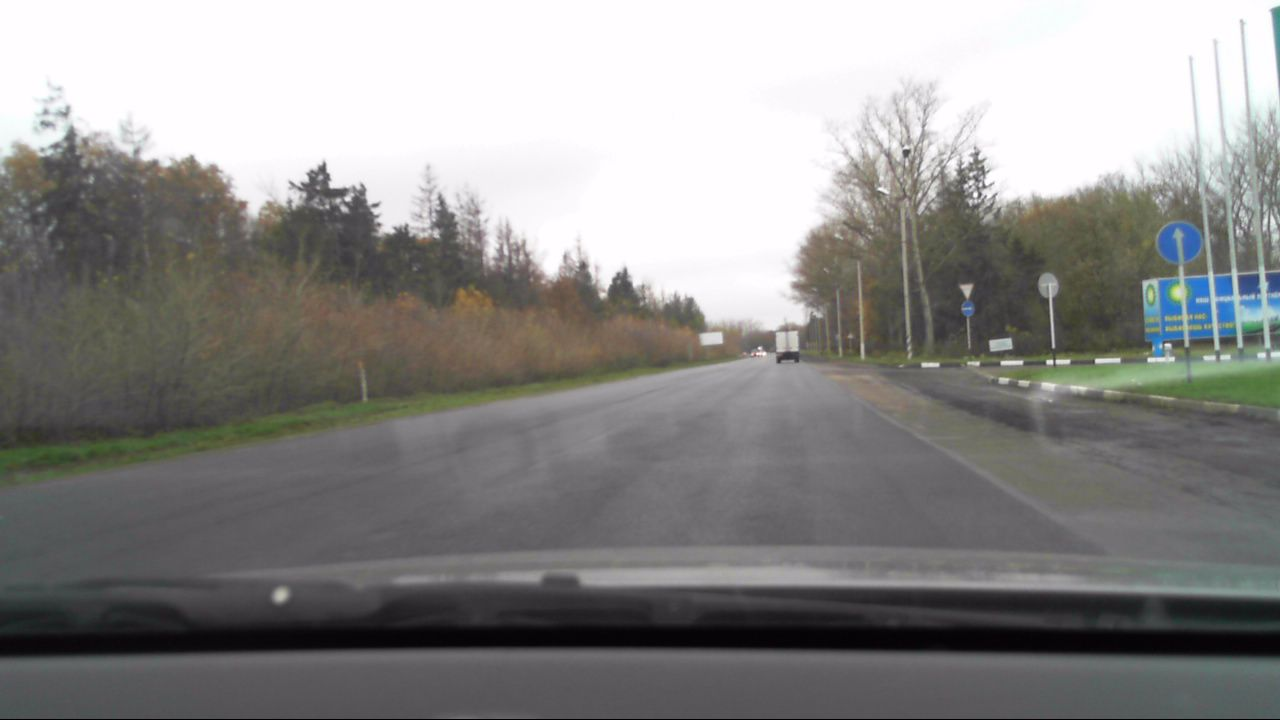Turn Right: (961, 301, 975, 317)
